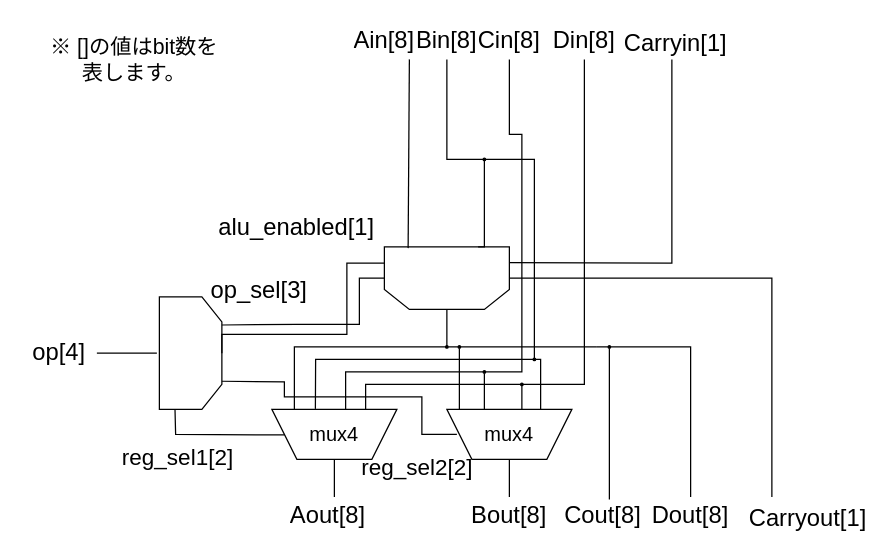
Image size: 888x555. Some labels were removed from this diagram. Each missing label, with the centre of its shape:
"ALU" belongs at point 446,277.
"デコーダ" belongs at point 190,352.
